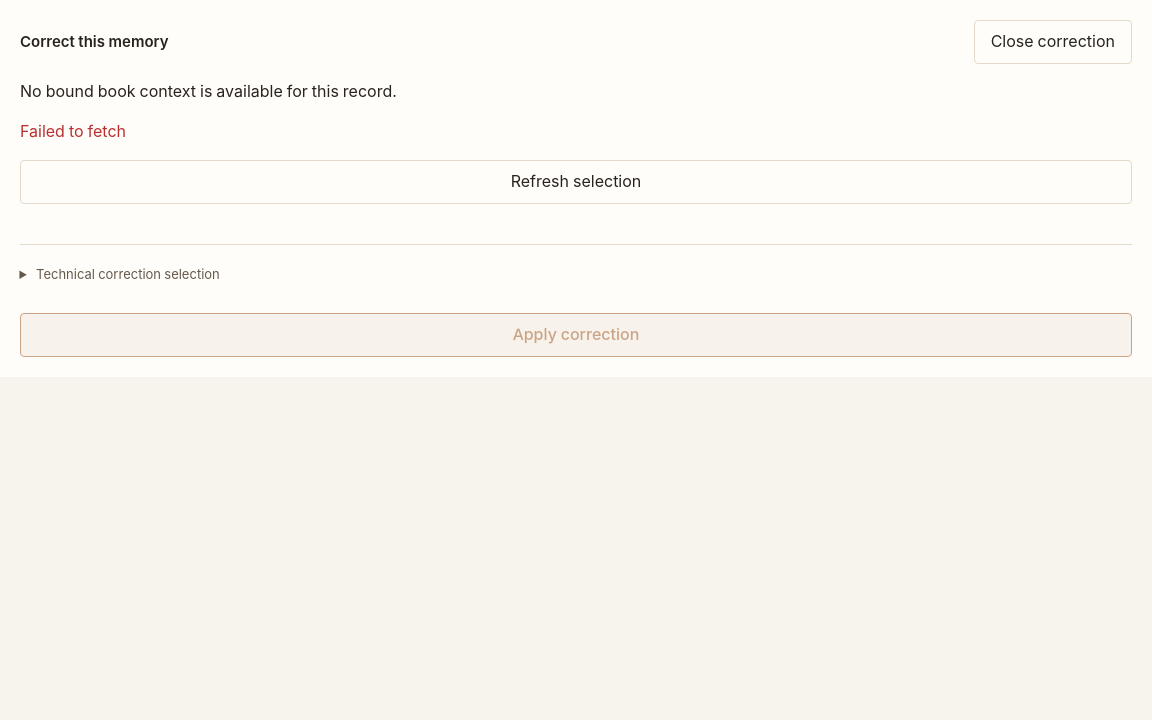
it: explicit retry recovers failed option loading
Expected: the text "Failed to fetch" is shown, [20,121,126,142]
Click the button "Refresh selection" at (576, 182), box [20,160,1132,204]
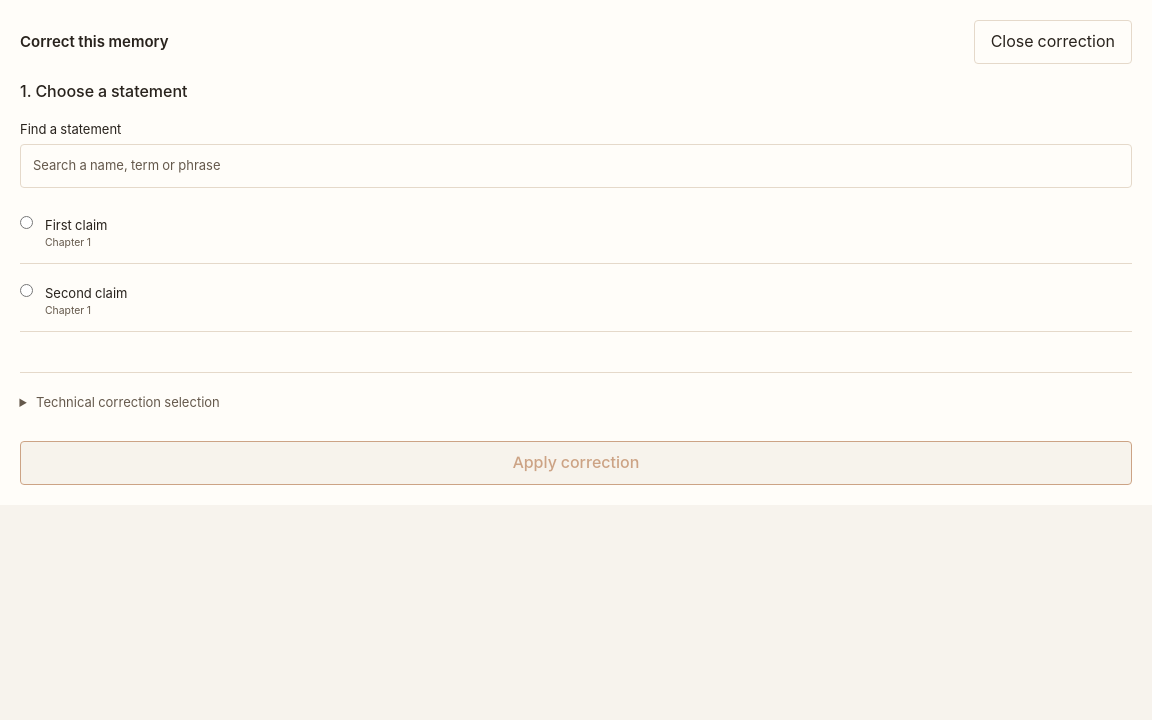
Now the text "First claim" is shown, box [45,216,108,234]
